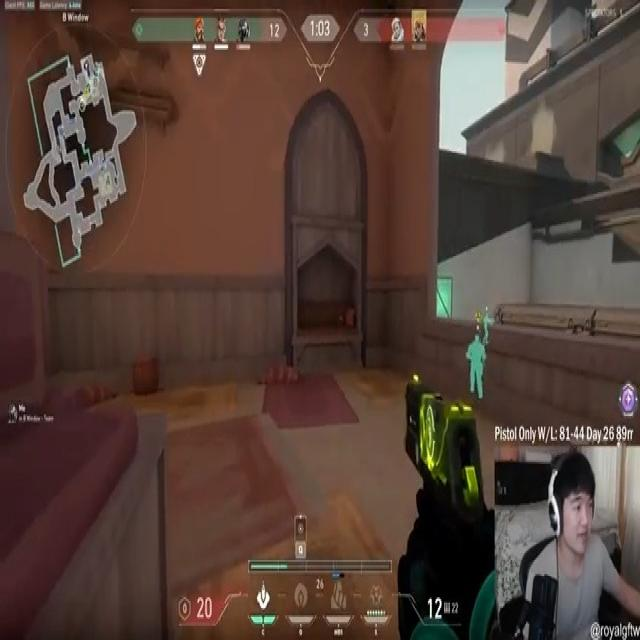ally behind wall: (468, 331, 490, 403), (483, 312, 494, 348)
